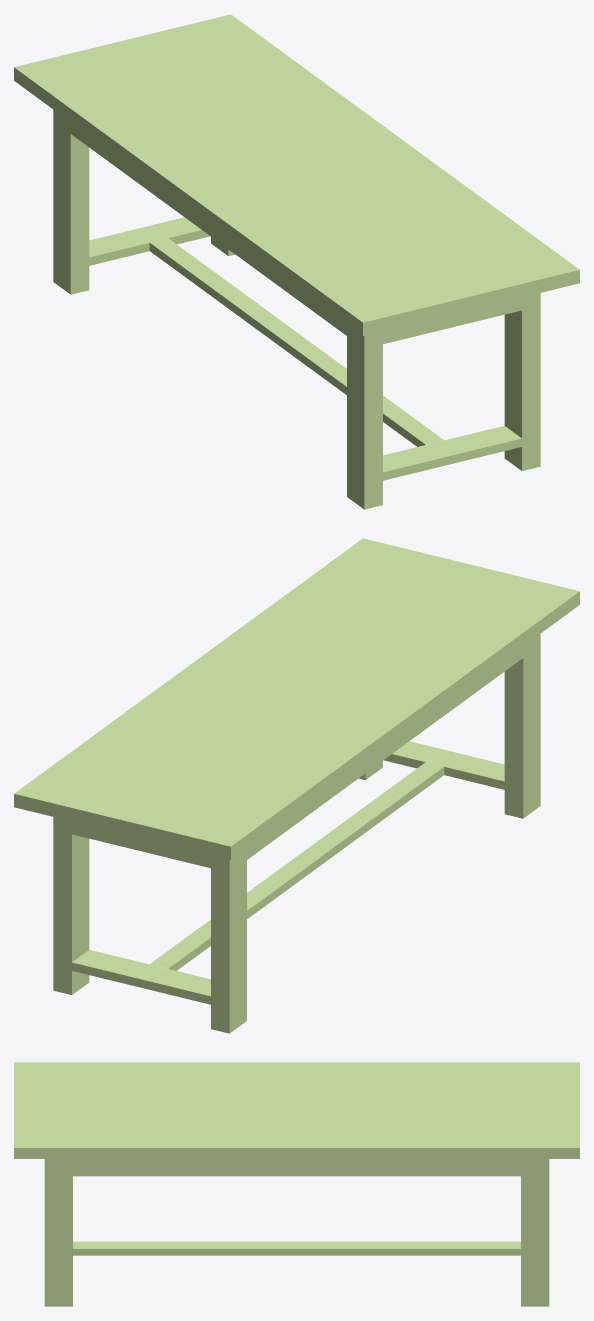
The model's file is Table.glb.
3 renders of one model, top to bottom at view 1: azimuth 30°, elevation 25°; view 2: azimuth 150°, elevation 25°; view 3: azimuth 270°, elevation 25°, orthographic. The views are drawn at different scales.
Parts seen in each view (by area): view 1: Box001; view 2: Box001; view 3: Box001.
Part boxes in pixels (bbox=[...]): Box001: bbox=[14, 14, 579, 509]; Box001: bbox=[14, 538, 579, 1033]; Box001: bbox=[14, 1062, 579, 1306].
Size of the model in its own units: 0.8612 by 0.7807 by 2.4.
